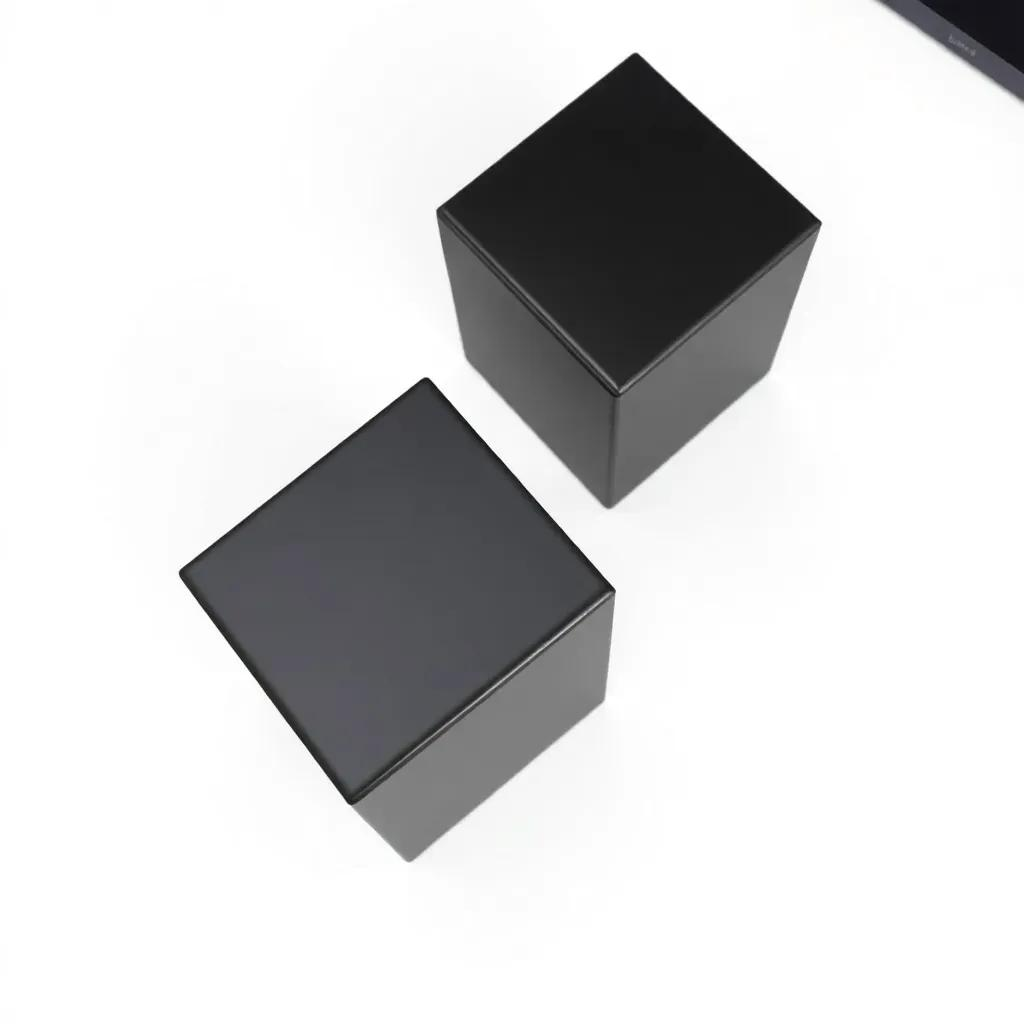cube: (177, 375, 616, 862), (434, 50, 822, 508)
